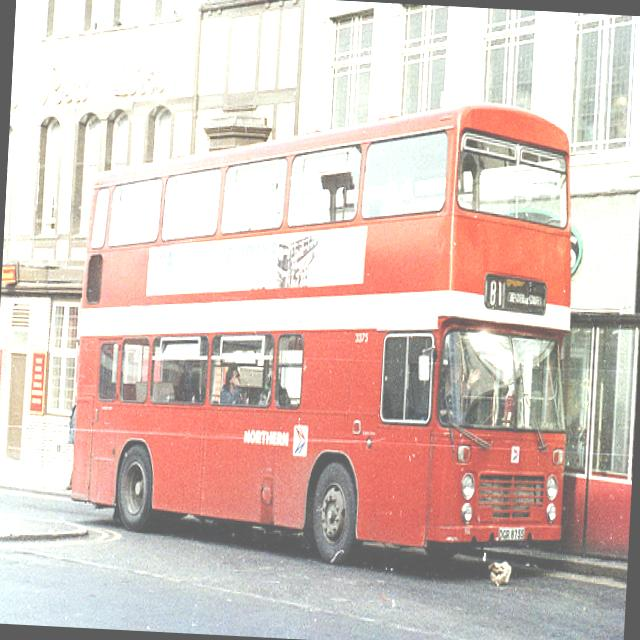Vehicle: (69, 82, 584, 572)
